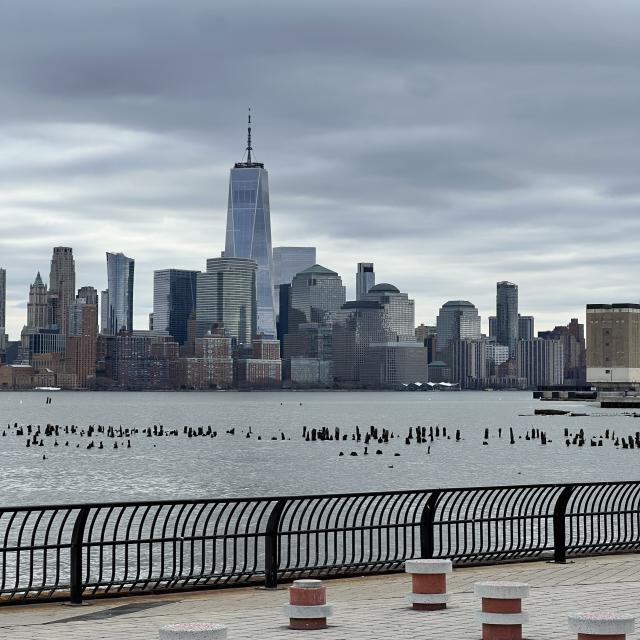WTC: (222, 107, 274, 260)
